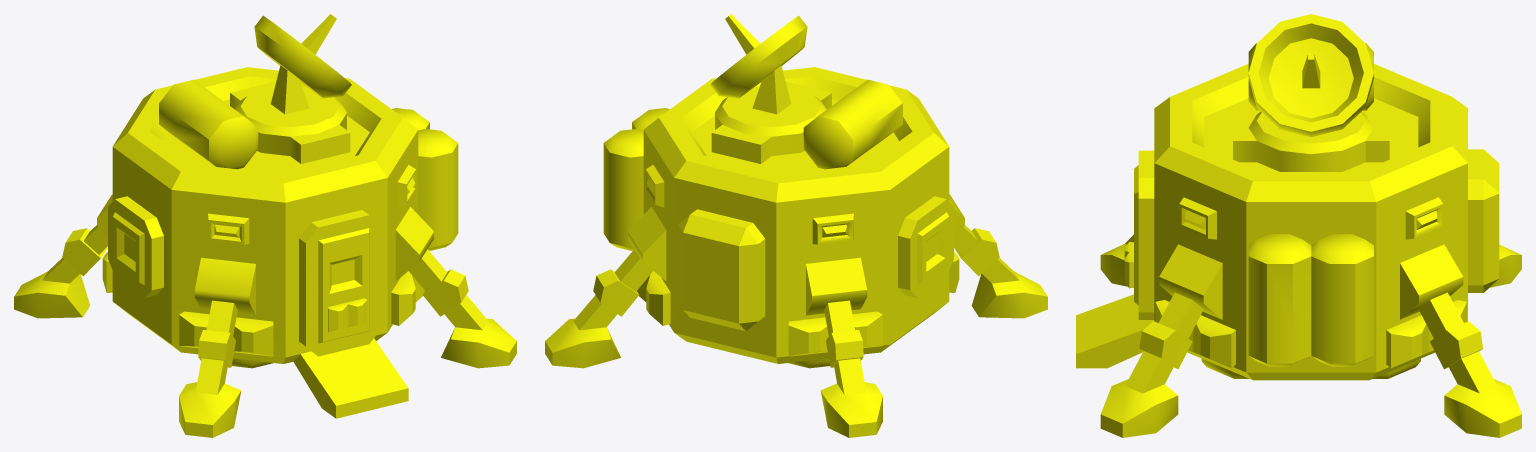
The model's file is kaykit-lander-a.glb.
3 views of the same model, side by side, from view 1: azimuth 30°, elevation 25°; view 2: azimuth 150°, elevation 25°; view 3: azimuth 270°, elevation 25° (orthographic). The views are drawn at different scales.
Visible parts, largest first — view 1: lander_A; view 2: lander_A; view 3: lander_A.
Boxes of the visible parts, <box> form: lander_A: <box>14,14,516,437</box>; lander_A: <box>545,14,1047,437</box>; lander_A: <box>1076,14,1521,437</box>.
Size of the model in its own units: 1.37 by 1.19 by 1.42.
